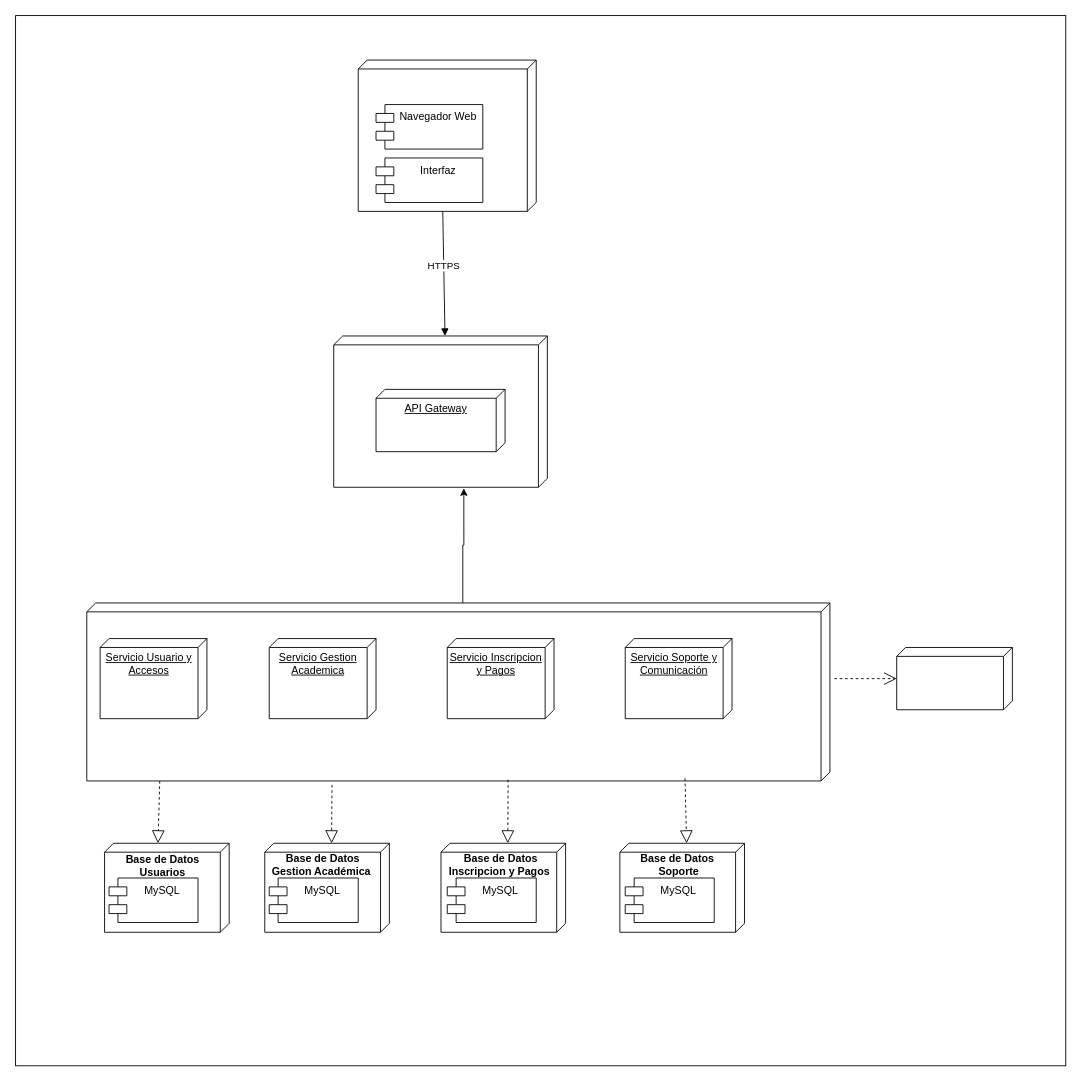
The diagram is 1081 pixels wide and 1081 high, and some of its shapes have lost their labels. The shapes that lost their labels are listed below. From the top down, each one's box as (x1, y1, x2, y2) in pixels, then its label:
(357, 59, 536, 211): Cliente
(333, 335, 547, 487): AWS EC2
(86, 602, 830, 781): Servidor de Microservicios
(896, 647, 1012, 710): AWS S3 Servidor
